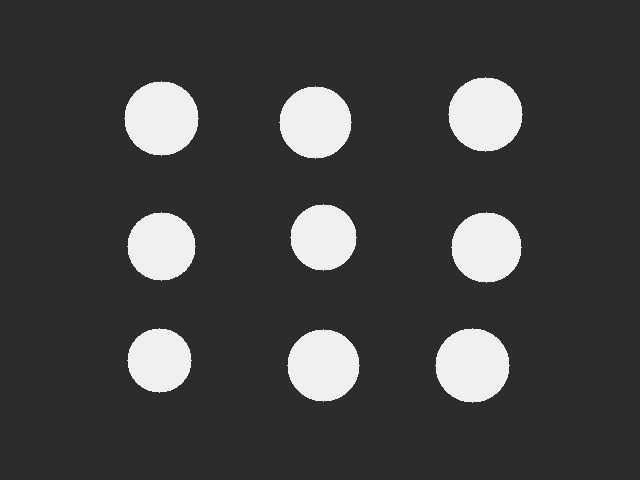hole: (124, 81, 198, 155), (448, 77, 522, 151), (435, 328, 509, 402), (279, 86, 351, 158), (287, 329, 359, 401), (451, 212, 521, 282), (127, 212, 195, 280), (290, 204, 356, 270), (127, 328, 191, 392)
